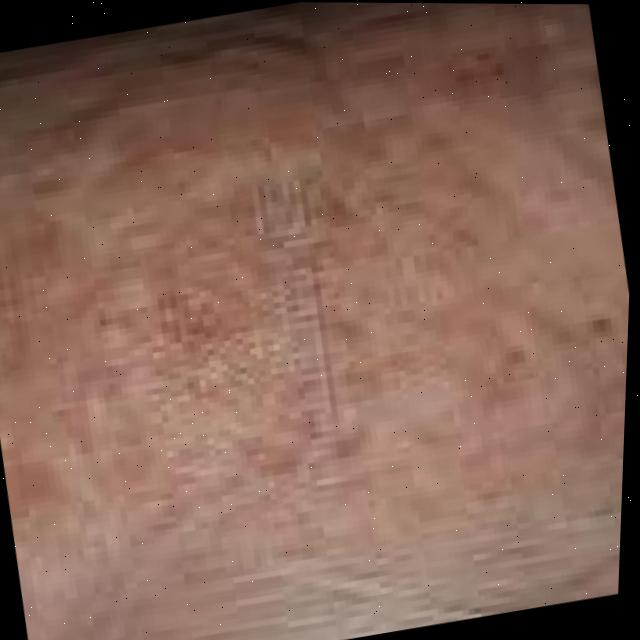Melasma: (73, 132, 385, 505)
